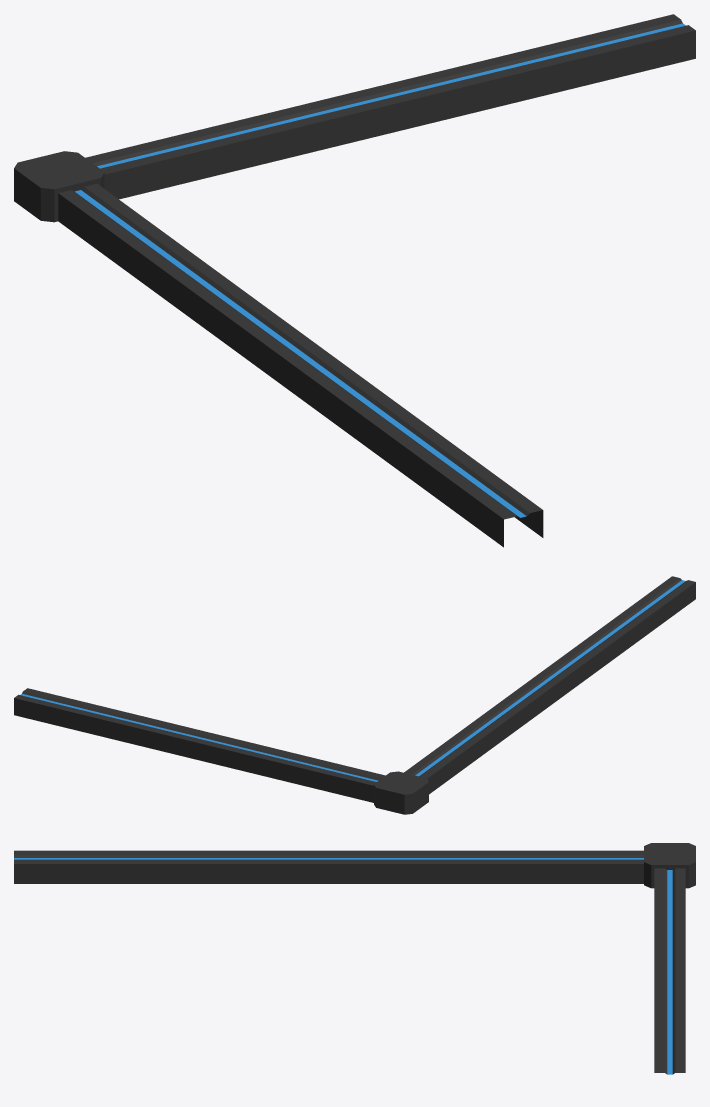
The picture shows the model from 3 angles, top to bottom: view 1: azimuth 30°, elevation 25°; view 2: azimuth 150°, elevation 25°; view 3: azimuth 270°, elevation 25°; orthographic projection. The views are drawn at different scales.
Visible parts, largest first — view 1: 0011; view 2: 0011; view 3: 0011.
Boxes of the visible parts, box(x1,y1,x2,y2) form: 0011: box(14, 14, 695, 547); 0011: box(14, 576, 695, 814); 0011: box(14, 843, 695, 1074).
Size of the model in its own units: 1.05 by 0.0503 by 1.34.
